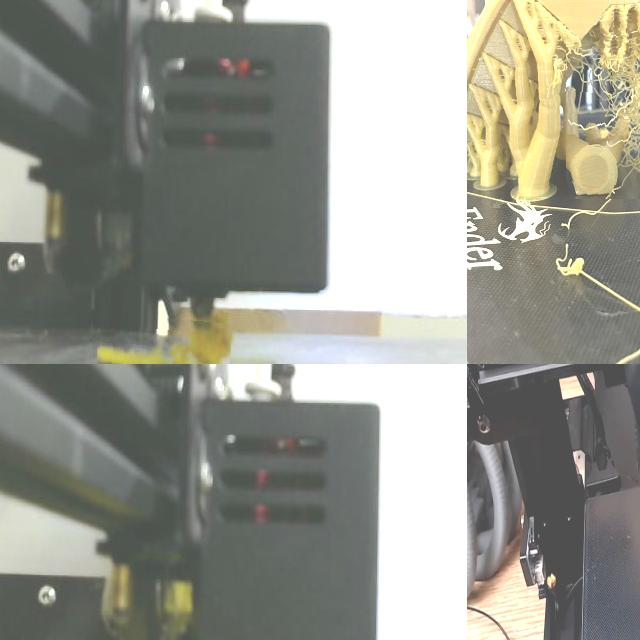spaghetti: (470, 252, 640, 364), (566, 11, 640, 199), (97, 321, 232, 364)
